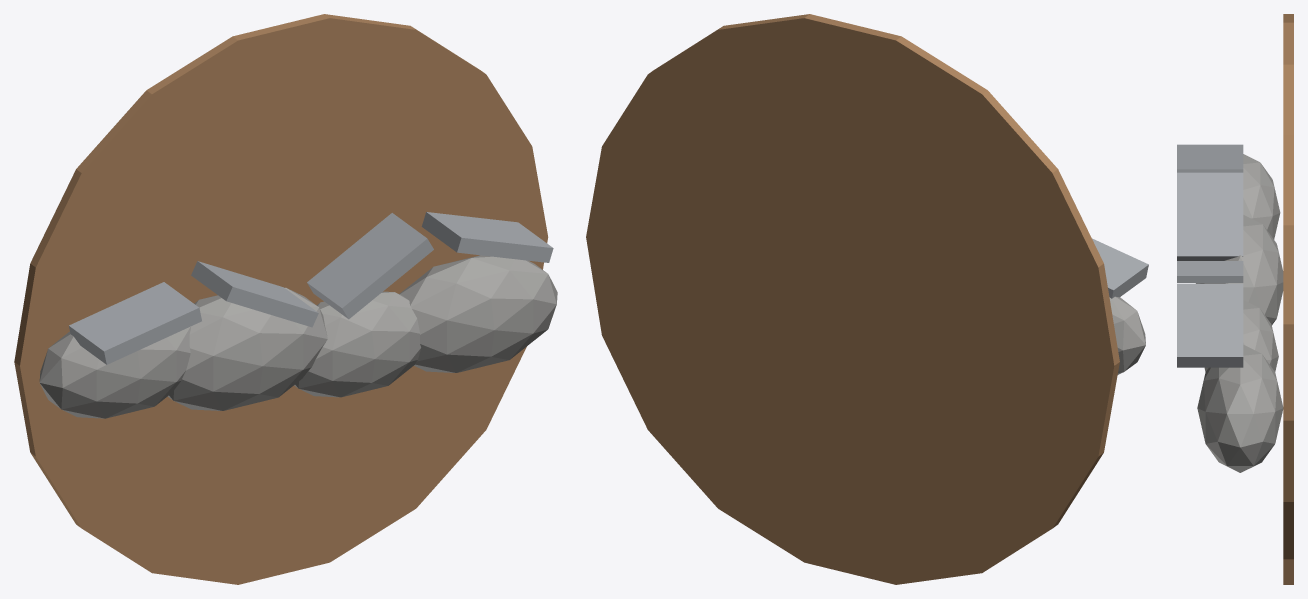
The model's file is 02_local_prop_cluster.glb.
The picture shows the model from 3 angles, left to right: view 1: azimuth 30°, elevation 25°; view 2: azimuth 150°, elevation 25°; view 3: azimuth 270°, elevation 25°; orthographic projection. The views are drawn at different scales.
Parts seen in each view (by area): view 1: scatter_base, scrap_rock_3, scrap_rock_1, scrap_rock_0, scrap_rock_2, scrap_plate_2, scrap_plate_0, scrap_plate_3, scrap_plate_1; view 2: scatter_base, scrap_rock_0, scrap_plate_0; view 3: scrap_rock_3, scatter_base, scrap_plate_1, scrap_plate_3, scrap_rock_1, scrap_rock_0, scrap_plate_0, scrap_rock_2, scrap_plate_2.
Boxes of the visible parts, box(x1,y1,x2,y2) form: scatter_base: box(14, 14, 548, 584); scrap_rock_3: box(399, 255, 557, 372); scrap_rock_1: box(168, 287, 327, 410); scrap_rock_0: box(39, 326, 190, 418); scrap_rock_2: box(294, 291, 421, 397); scrap_plate_2: box(307, 213, 433, 319); scrap_plate_0: box(69, 282, 201, 364); scrap_plate_3: box(421, 212, 553, 262); scrap_plate_1: box(191, 261, 318, 327); scatter_base: box(586, 14, 1119, 584); scrap_rock_0: box(1109, 296, 1145, 374); scrap_plate_0: box(1092, 238, 1148, 298); scrap_rock_3: box(1197, 344, 1283, 472); scatter_base: box(1283, 14, 1293, 584); scrap_plate_1: box(1177, 172, 1243, 260); scrap_plate_3: box(1177, 283, 1243, 367); scrap_rock_1: box(1196, 215, 1283, 325); scrap_rock_0: box(1243, 154, 1280, 239); scrap_plate_0: box(1177, 144, 1243, 172); scrap_rock_2: box(1204, 300, 1278, 371); scrap_plate_2: box(1177, 261, 1243, 282).
Bounding box in the file's own units: 1.91 × 1.87 × 0.3875.
